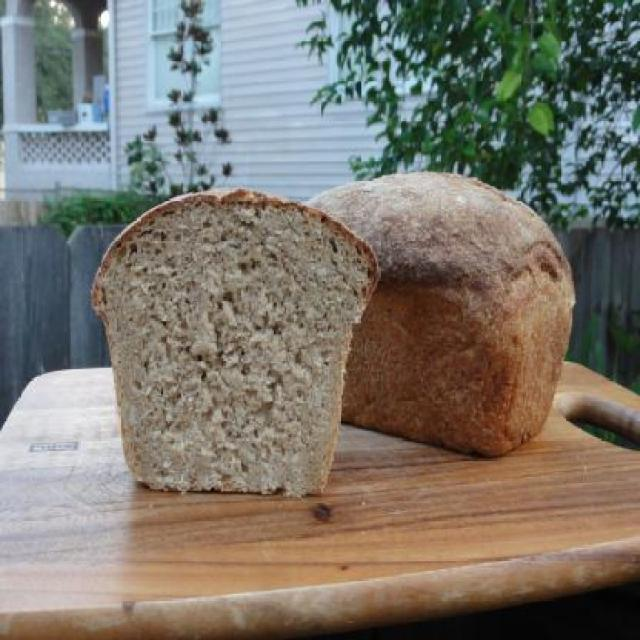Bread: (90, 186, 382, 498), (302, 177, 576, 454)
